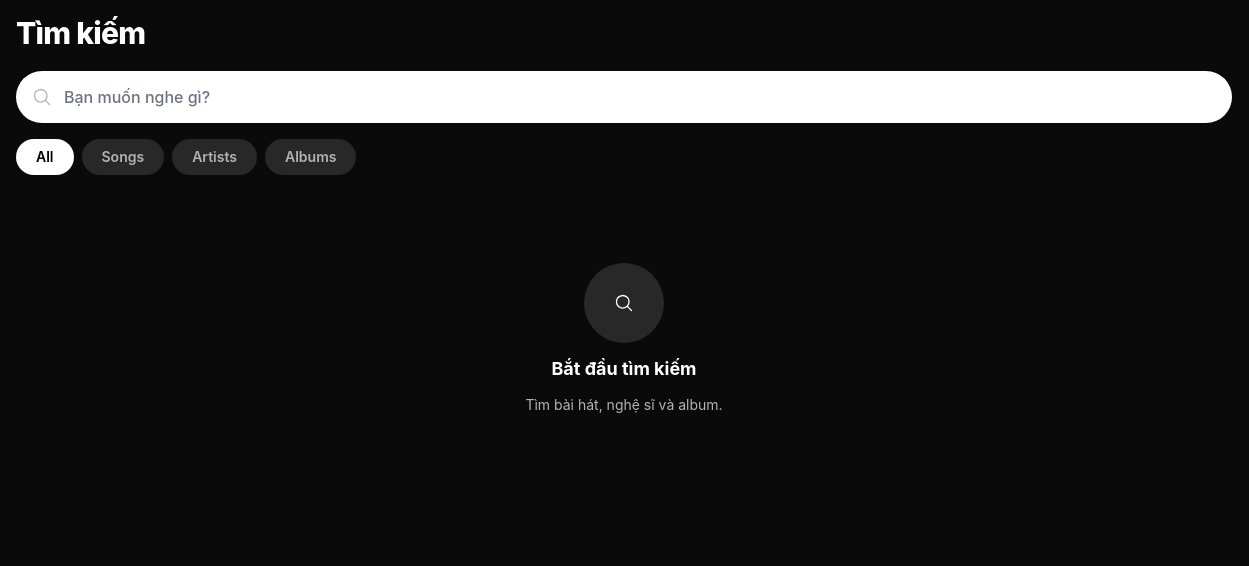
Test case: SearchPage › shows albums section when results include albums
The width and height of the screenshot is (1249, 566).
Type "album" into the field with test id "search-input" at (624, 97), box left=16, top=71, right=1232, bottom=123
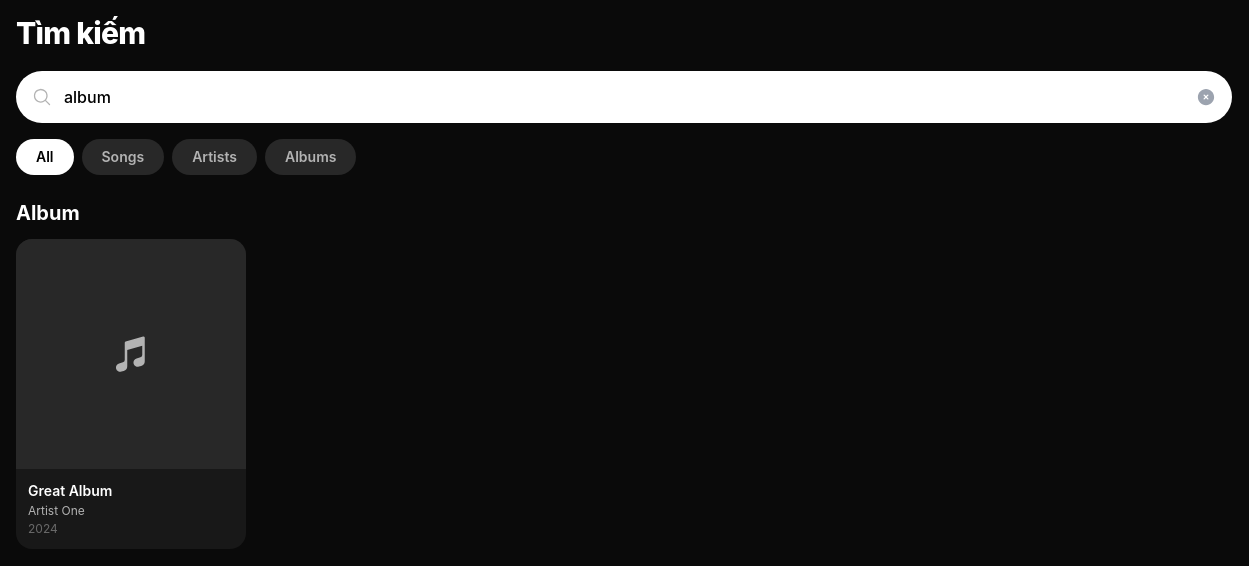
Expected: the element with test id "albums-section" is shown, left=16, top=201, right=246, bottom=549
Expected: the text "Great Album" is shown, left=28, top=482, right=112, bottom=499
